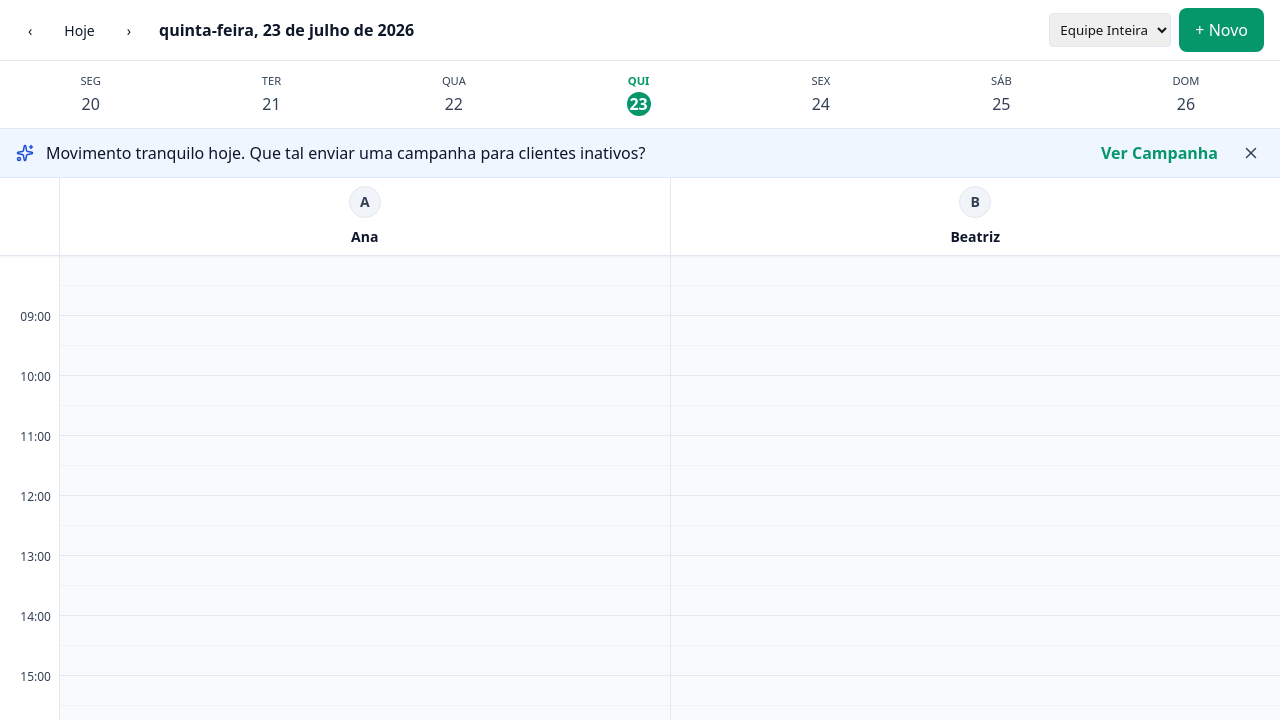
it: AgendaPage › opens the create modal when clicking "+ Novo"
This screenshot has width=1280, height=720.
Expected: the text "+ Novo" is shown, x1=1195 y1=18 x2=1248 y2=42
Step 1. Click the button "+ Novo" → point(1222, 30), box x1=1179 y1=8 x2=1264 y2=52
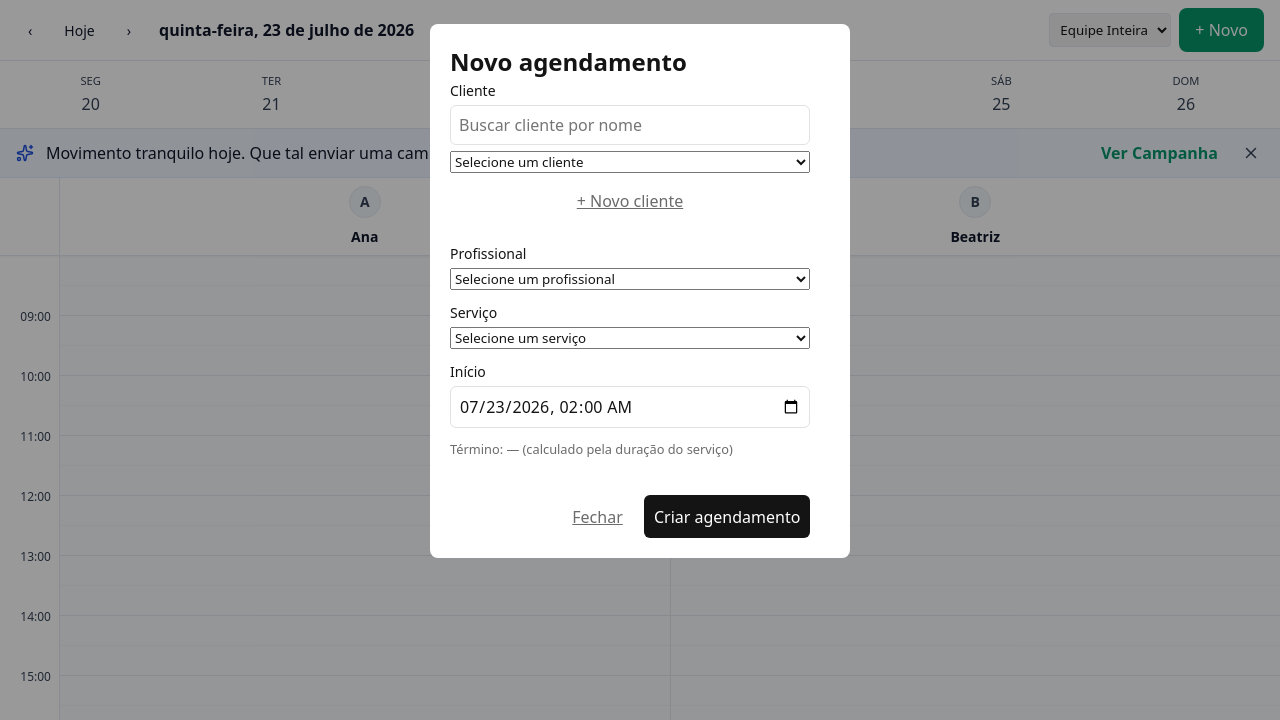
Result: the heading "Novo agendamento" is shown at x1=450 y1=45 x2=687 y2=78
